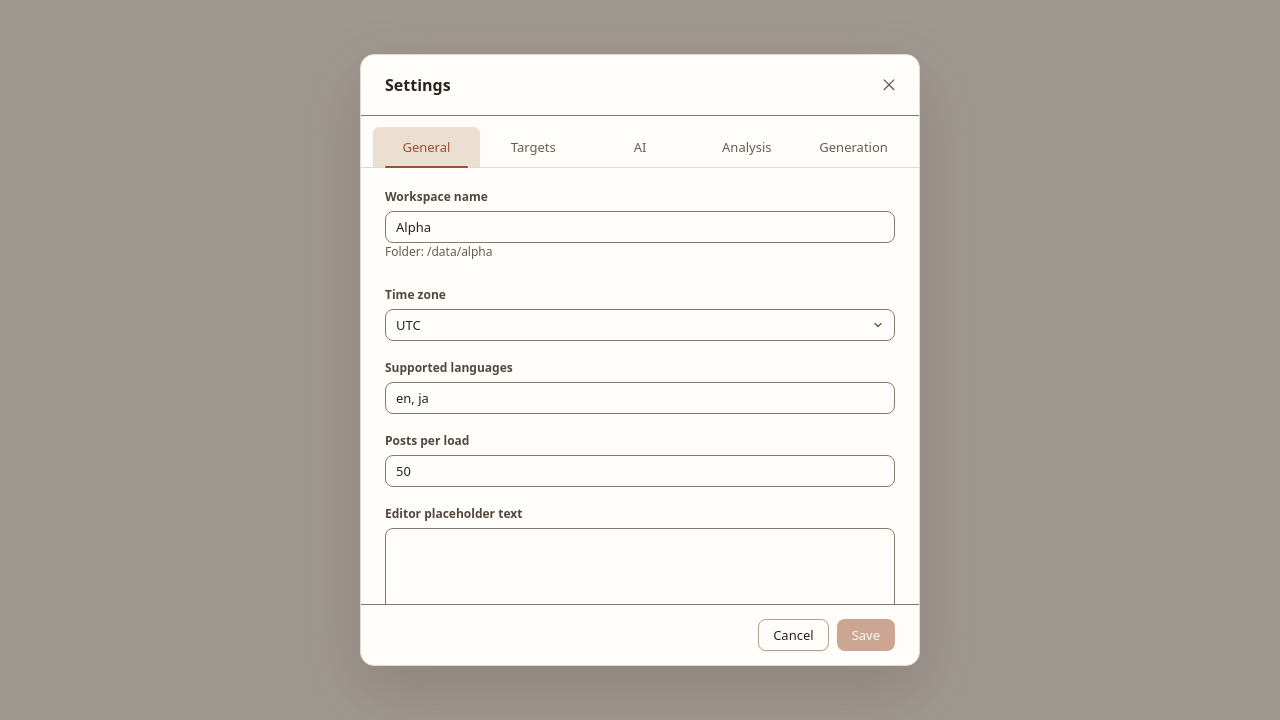
Test: SettingsModal — AI tab key hints/placeholders › uses the keep-current placeholder when a key is already stored
Click the tab "AI" at (640, 147), box left=587, top=127, right=693, bottom=167
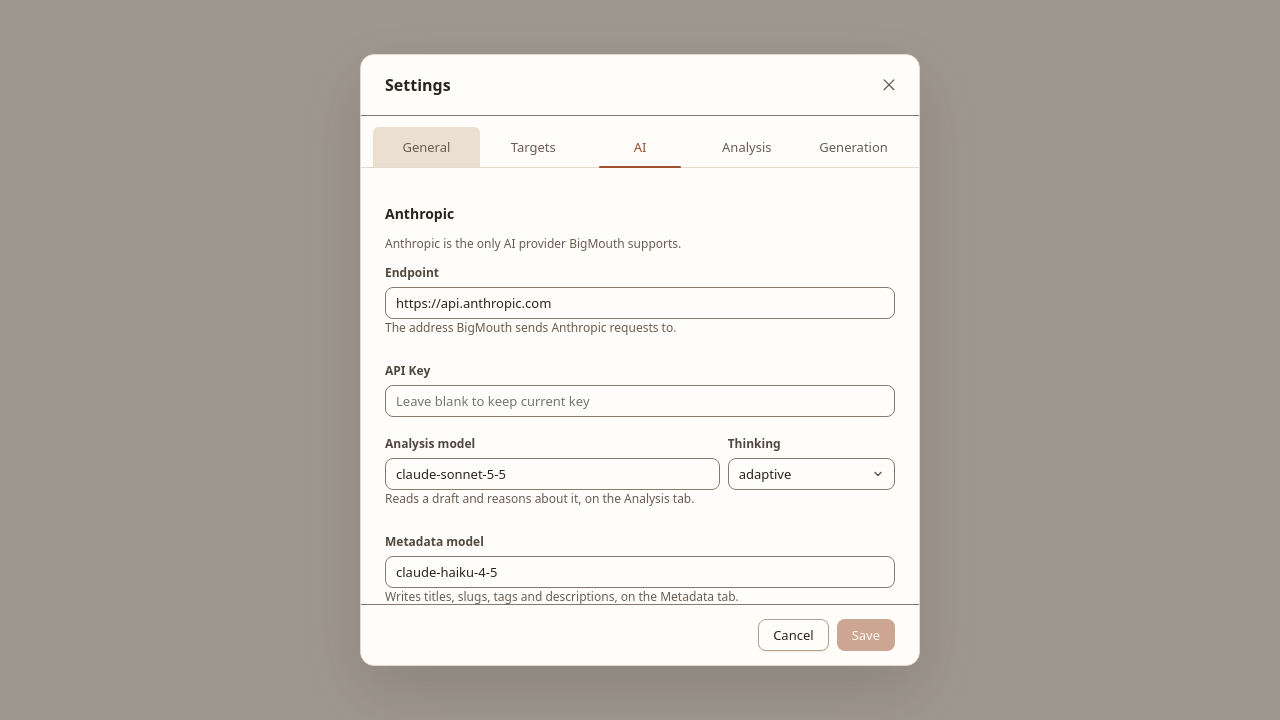
Now the password field with placeholder "Leave blank to keep current key" is shown, box left=385, top=385, right=895, bottom=417
